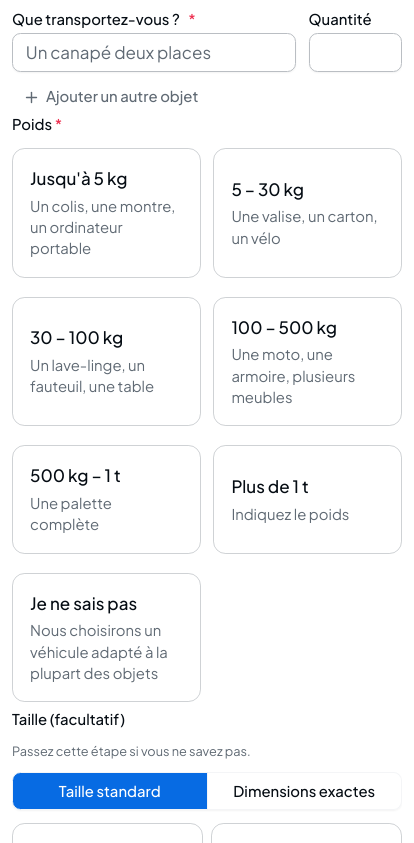
Test: weight › offers the real figure as optional for a bracket that already has a ceiling
Click the radio button with id "weight-upTo30".
click(239, 213)  # box [230, 204, 247, 221]
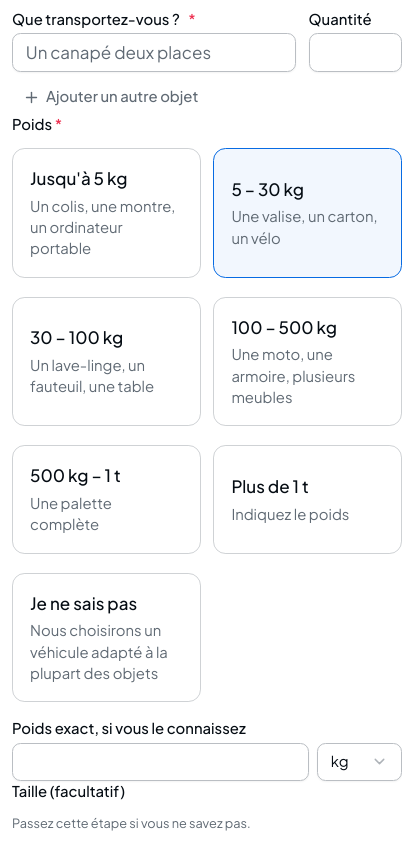
Expected: the field labelled "Poids exact, si vous le connaissez" is shown, [12, 742, 308, 781]
